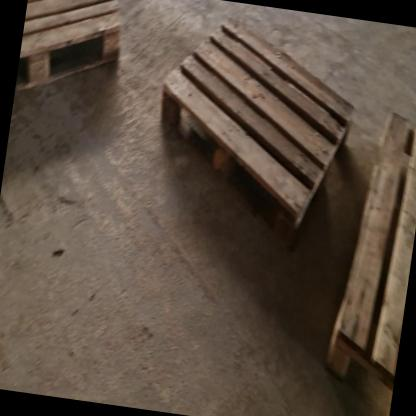BoxFace: (156, 10, 359, 257), (321, 105, 416, 416), (15, 0, 121, 96)
